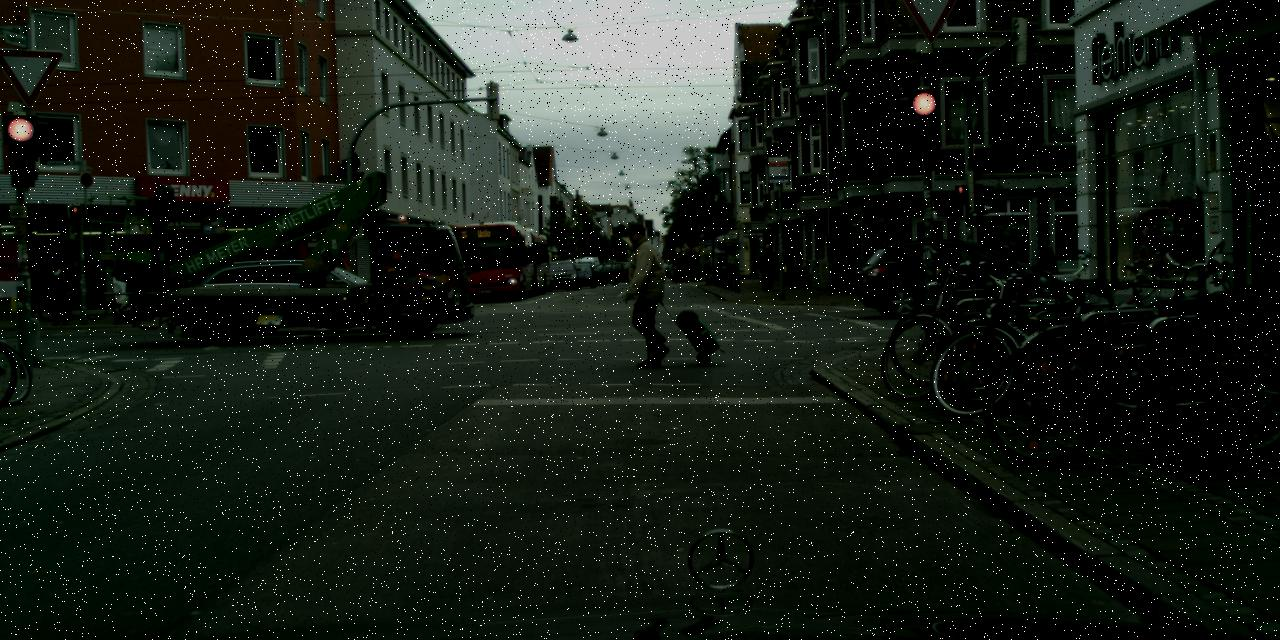ped: (616, 221, 675, 367), (44, 260, 70, 324), (62, 259, 84, 313), (998, 244, 1018, 292), (758, 242, 776, 290), (705, 259, 713, 280), (714, 262, 720, 280)
